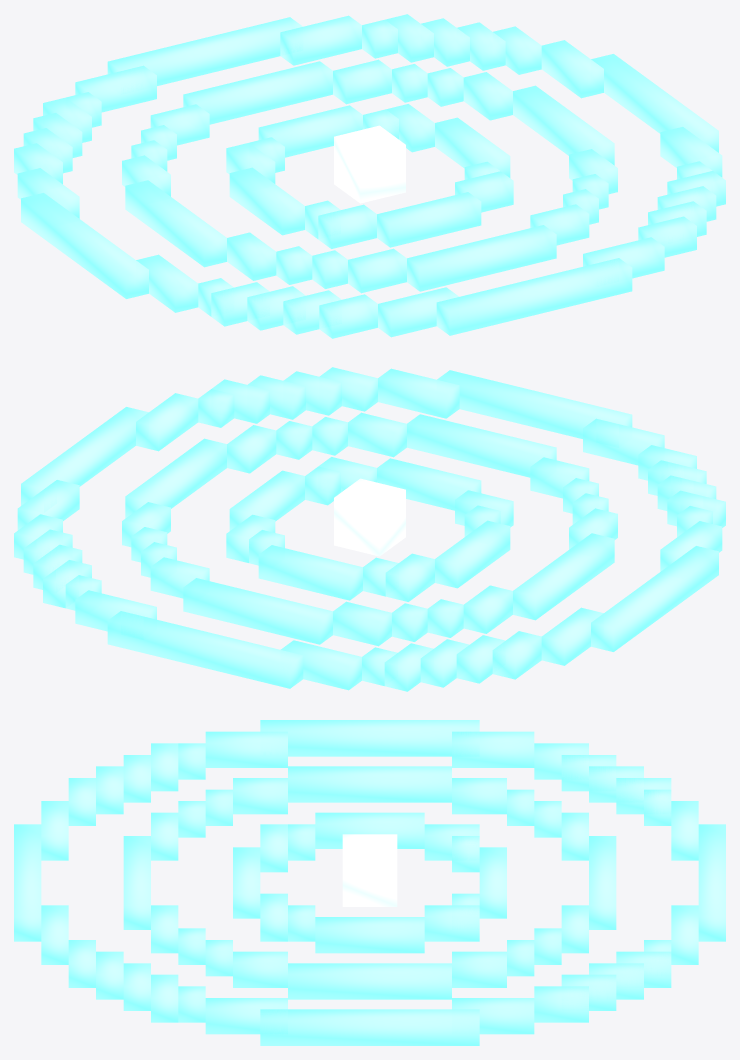
Rendered from scan-pulse.glb.
3 views of the same model, one above another, from view 1: azimuth 30°, elevation 25°; view 2: azimuth 150°, elevation 25°; view 3: azimuth 270°, elevation 25° (orthographic). The views are drawn at different scales.
Visible parts, largest first — view 1: layer.ring, layer.core; view 2: layer.ring, layer.core; view 3: layer.ring, layer.core.
Part boxes in pixels (left/top/right/bottom): layer.ring: left=14, top=14, right=725, bottom=338; layer.core: left=334, top=125, right=405, bottom=203; layer.ring: left=14, top=367, right=725, bottom=691; layer.core: left=334, top=478, right=405, bottom=556; layer.ring: left=14, top=720, right=725, bottom=1045; layer.core: left=342, top=834, right=397, bottom=906.
Size of the model in its own units: 1.62 by 0.125 by 1.62.
